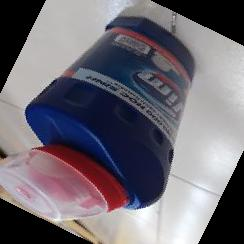vim blue: (2, 15, 198, 225)
